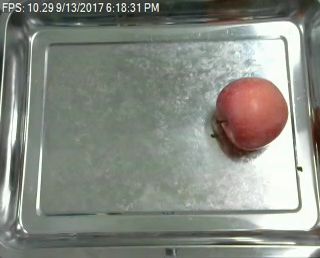Apple: (211, 77, 293, 152)
